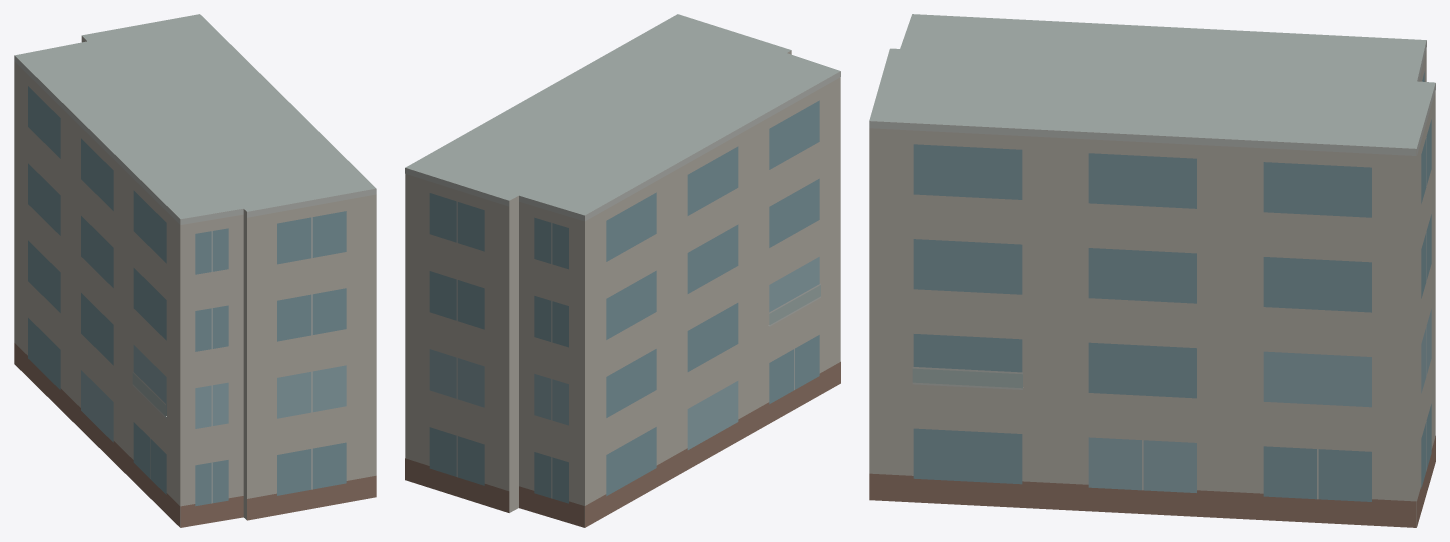
File: survey-upis-33018130.glb
3 views of the same model, side by side, from view 1: azimuth 30°, elevation 25°; view 2: azimuth 150°, elevation 25°; view 3: azimuth 270°, elevation 25° (orthographic). The views are drawn at different scales.
Parts seen in each view (by area): view 1: survey-upis-33018130.tmp; view 2: survey-upis-33018130.tmp; view 3: survey-upis-33018130.tmp.
Part boxes in pixels (x1,y1,x2,y2): survey-upis-33018130.tmp: (14, 14, 376, 527); survey-upis-33018130.tmp: (405, 14, 840, 527); survey-upis-33018130.tmp: (869, 14, 1435, 527).
Size of the model in its own units: 9.78 by 12.8 by 17.35.
